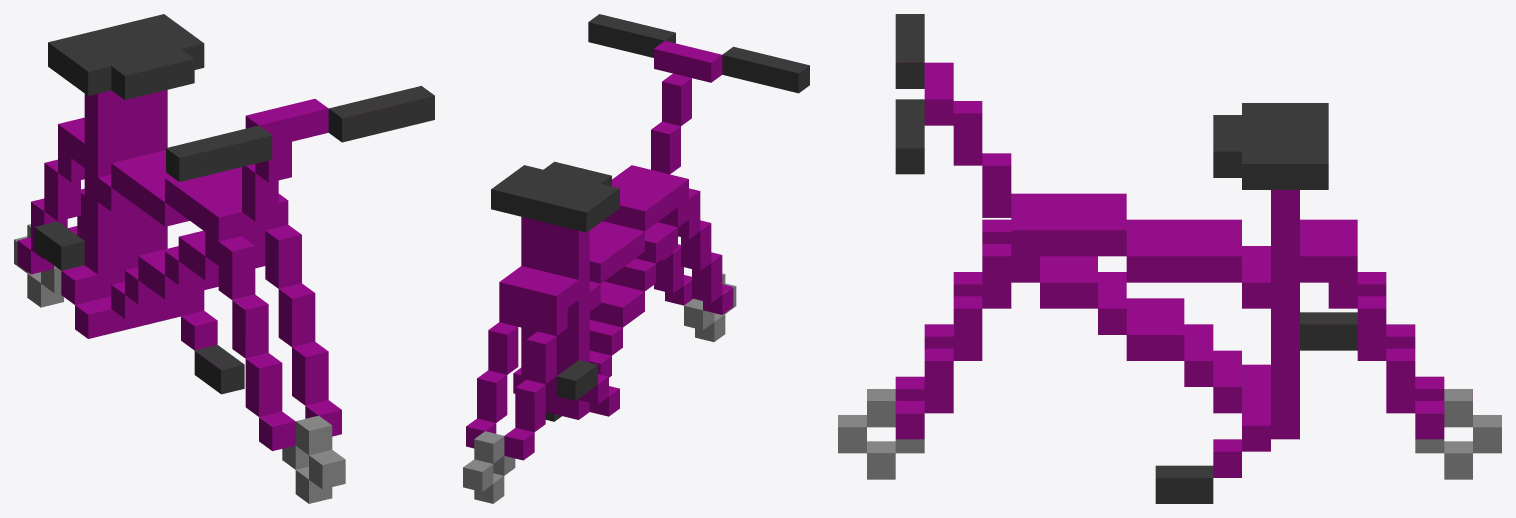
Rendered from Bicycle_3.obj.
The picture shows the model from 3 angles, left to right: view 1: azimuth 30°, elevation 25°; view 2: azimuth 150°, elevation 25°; view 3: azimuth 270°, elevation 25°; orthographic projection. The views are drawn at different scales.
Visible parts, largest first — view 1: Bicycle_3_Bicycle_3.001; view 2: Bicycle_3_Bicycle_3.001; view 3: Bicycle_3_Bicycle_3.001.
Boxes of the visible parts, x1,y1,x2,y2 form: Bicycle_3_Bicycle_3.001: (14,14,434,503); Bicycle_3_Bicycle_3.001: (463,14,809,503); Bicycle_3_Bicycle_3.001: (838,14,1501,503).
Size of the model in its own units: 1.1 by 1.5 by 2.3.
